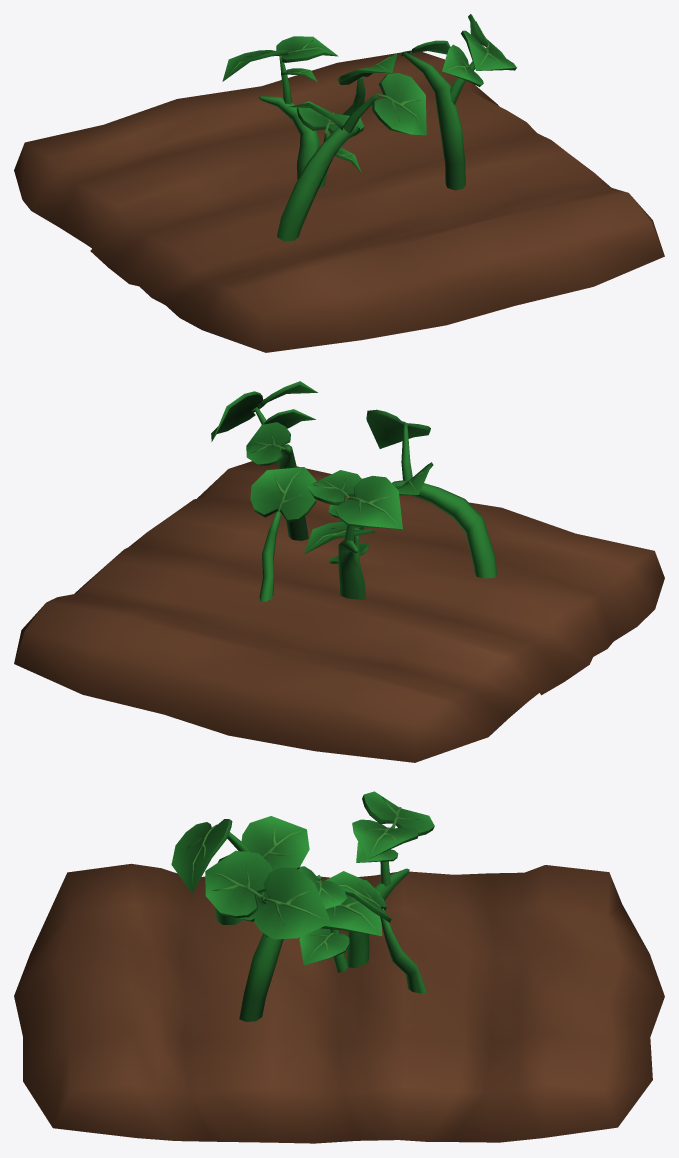
File: SM_PlantSoil_Pumpkin_Lv2.fbx
3 renders of one model, top to bottom at view 1: azimuth 30°, elevation 25°; view 2: azimuth 150°, elevation 25°; view 3: azimuth 270°, elevation 25°, orthographic. The views are drawn at different scales.
Visible parts, largest first — view 1: SM_PlantSoil_Pumpkin_Lv2; view 2: SM_PlantSoil_Pumpkin_Lv2; view 3: SM_PlantSoil_Pumpkin_Lv2.
Boxes of the visible parts, box(x1,y1,x2,y2) form: SM_PlantSoil_Pumpkin_Lv2: box(14, 14, 664, 352); SM_PlantSoil_Pumpkin_Lv2: box(14, 381, 664, 762); SM_PlantSoil_Pumpkin_Lv2: box(14, 791, 664, 1143).
Bounding box in the file's own units: 96.14 × 37.45 × 103.
